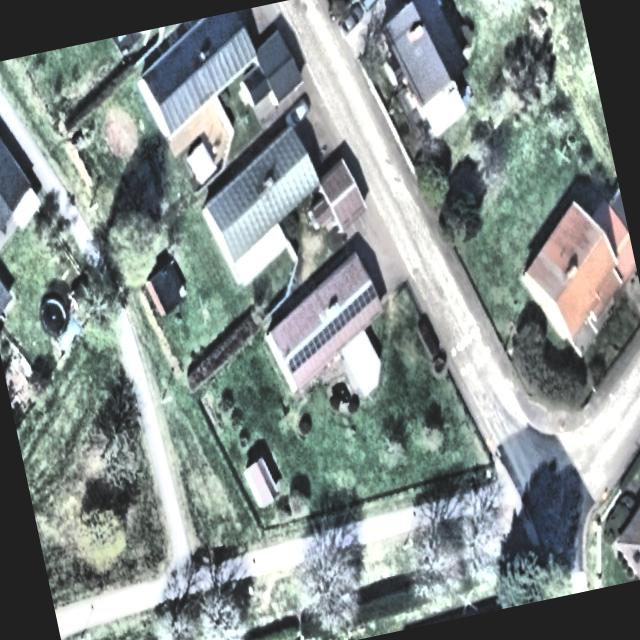roof_pv: (282, 337, 318, 380), (308, 316, 340, 357), (330, 298, 362, 332), (354, 280, 382, 310)
